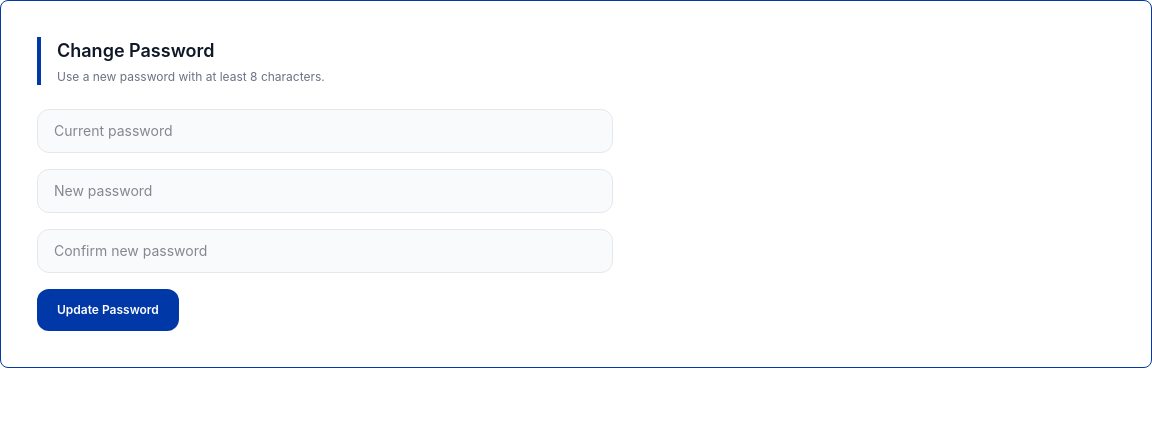
Scenario: ChangePassword › rejects a new password shorter than 8 characters
Type "oldpass" into the password field labelled "Current password". click: coordinates (325, 131)
box: x1=37 y1=109 x2=613 y2=153
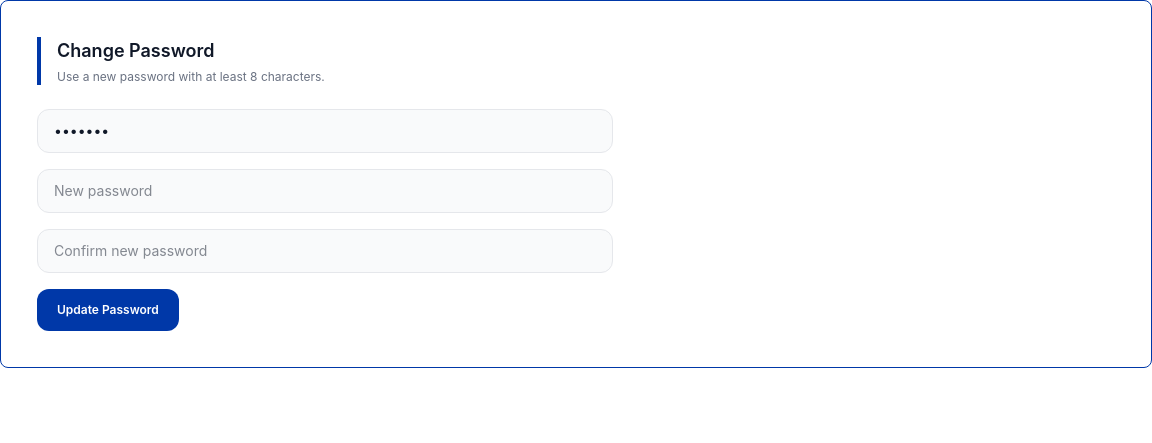
Type "short" into the password field labelled "New password". click: coordinates (325, 191)
box: x1=37 y1=169 x2=613 y2=213
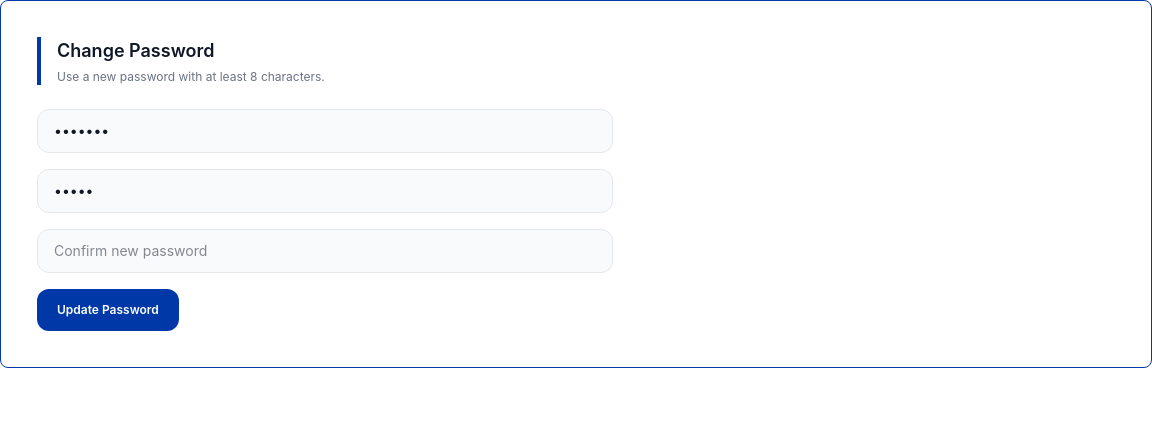
Type "short" into the password field labelled "Confirm new password". click: coordinates (325, 251)
box: x1=37 y1=229 x2=613 y2=273
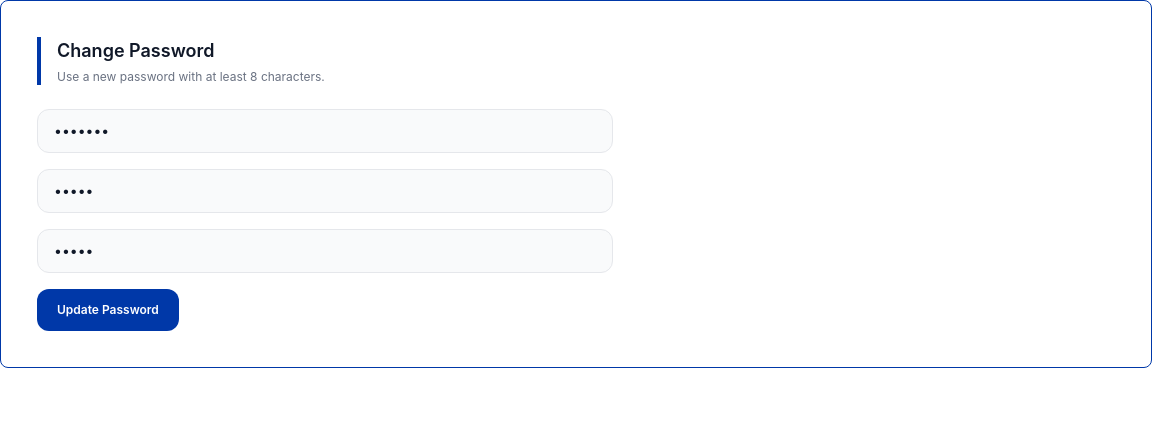
Click the button "Update Password". click: coordinates (108, 310)
box: x1=37 y1=289 x2=179 y2=331
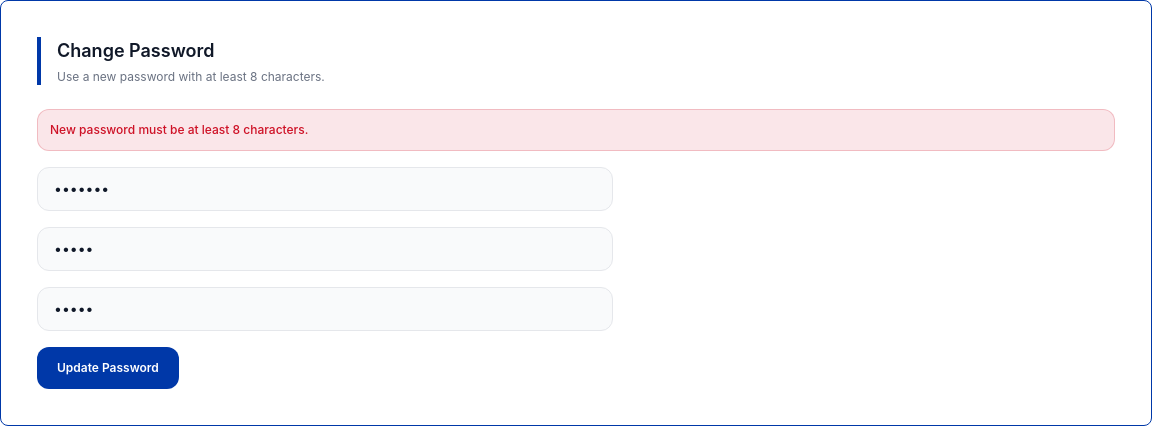
Expected: the text "New password must be at least 8 characters." is shown, x1=37 y1=109 x2=1115 y2=151
